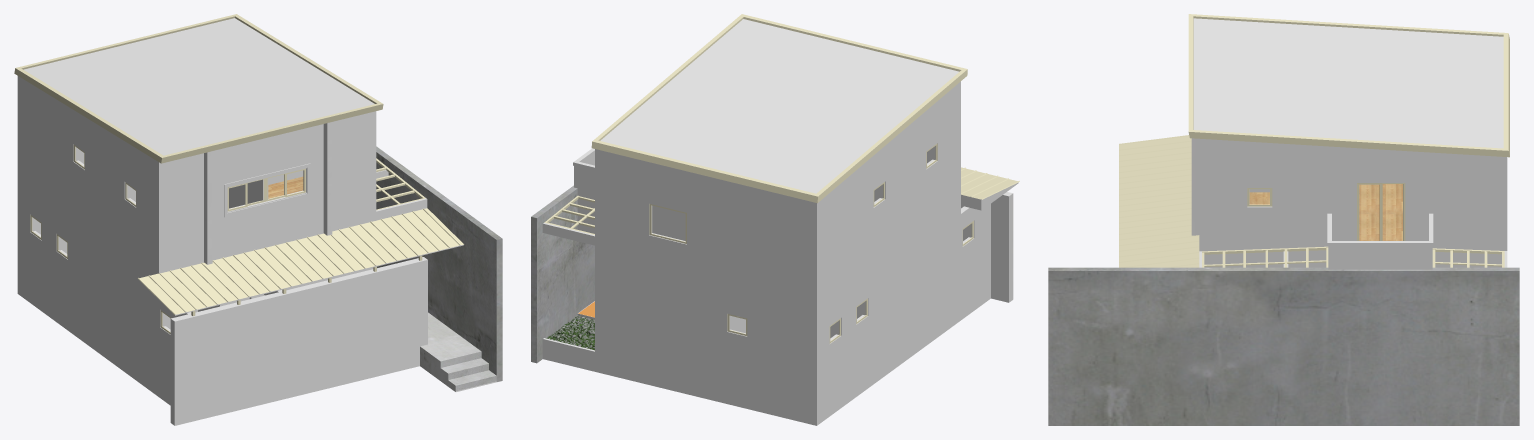
The model's file is home.gltf.
3 views of the same model, side by side, from view 1: azimuth 30°, elevation 25°; view 2: azimuth 150°, elevation 25°; view 3: azimuth 270°, elevation 25° (orthographic). The views are drawn at different scales.
Visible parts, largest first — view 1: House; view 2: House; view 3: House.
Part boxes in pixels (x1=…): House: x1=14, y1=14, x2=502, y2=425; House: x1=531, y1=14, x2=1019, y2=425; House: x1=1048, y1=14, x2=1519, y2=425.
Bounding box in the file's own units: 8.15 × 6.41 × 10.33.
1 material, 1 textured.
